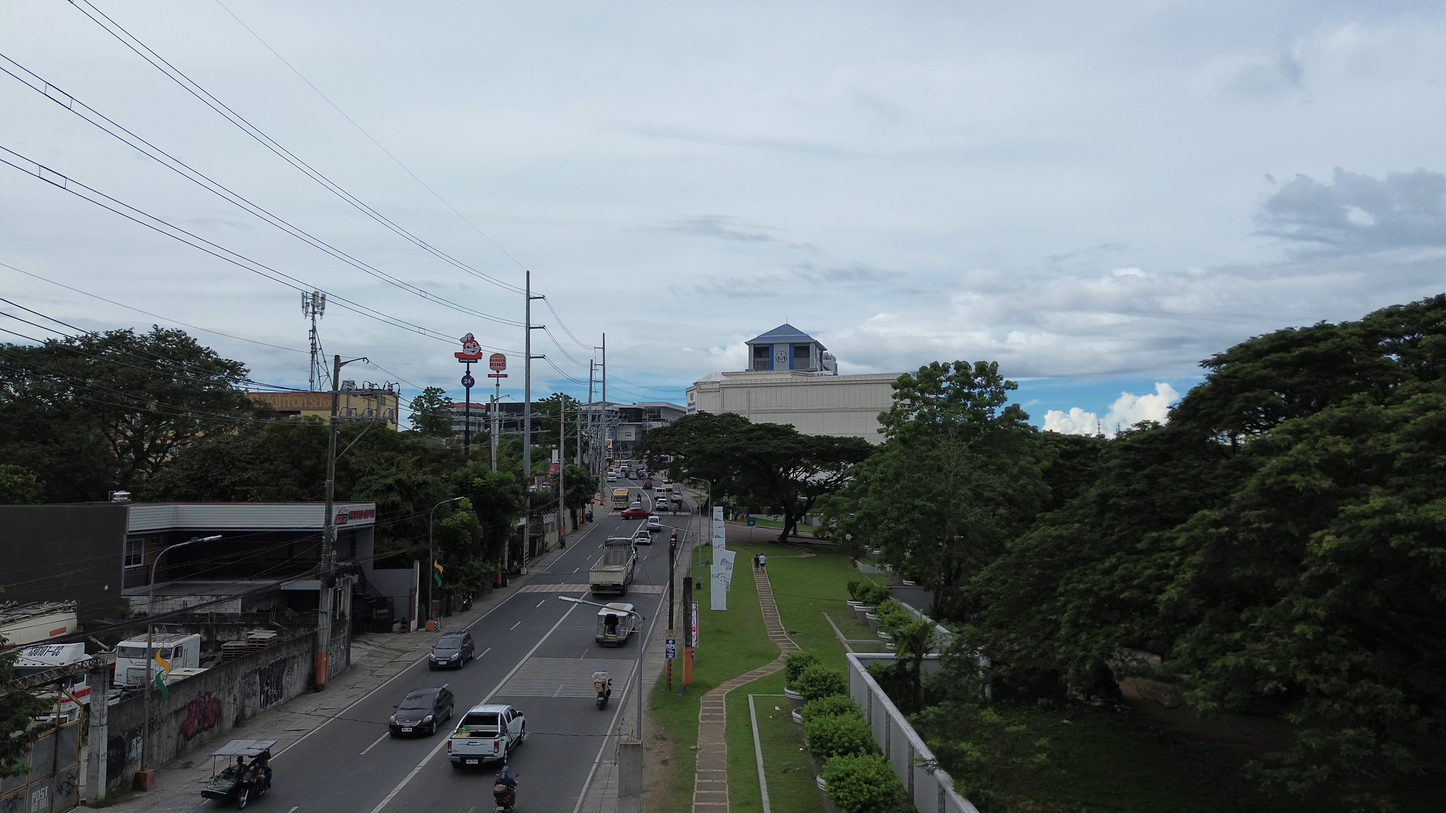car: (621, 506, 652, 519), (632, 529, 651, 545), (647, 516, 663, 531), (642, 480, 653, 490), (606, 473, 618, 482)
motorcycle: (201, 740, 274, 809), (493, 781, 516, 813), (595, 681, 610, 709), (461, 594, 472, 612)
truck: (37, 672, 92, 722)
vehicle: (201, 740, 275, 809), (447, 704, 526, 767), (113, 633, 200, 686), (0, 601, 79, 649), (389, 685, 455, 736), (37, 672, 91, 722), (589, 538, 636, 595), (595, 602, 638, 646), (429, 632, 475, 668), (494, 766, 516, 813), (594, 672, 611, 710), (612, 489, 629, 509), (642, 480, 654, 490), (606, 472, 618, 482)
